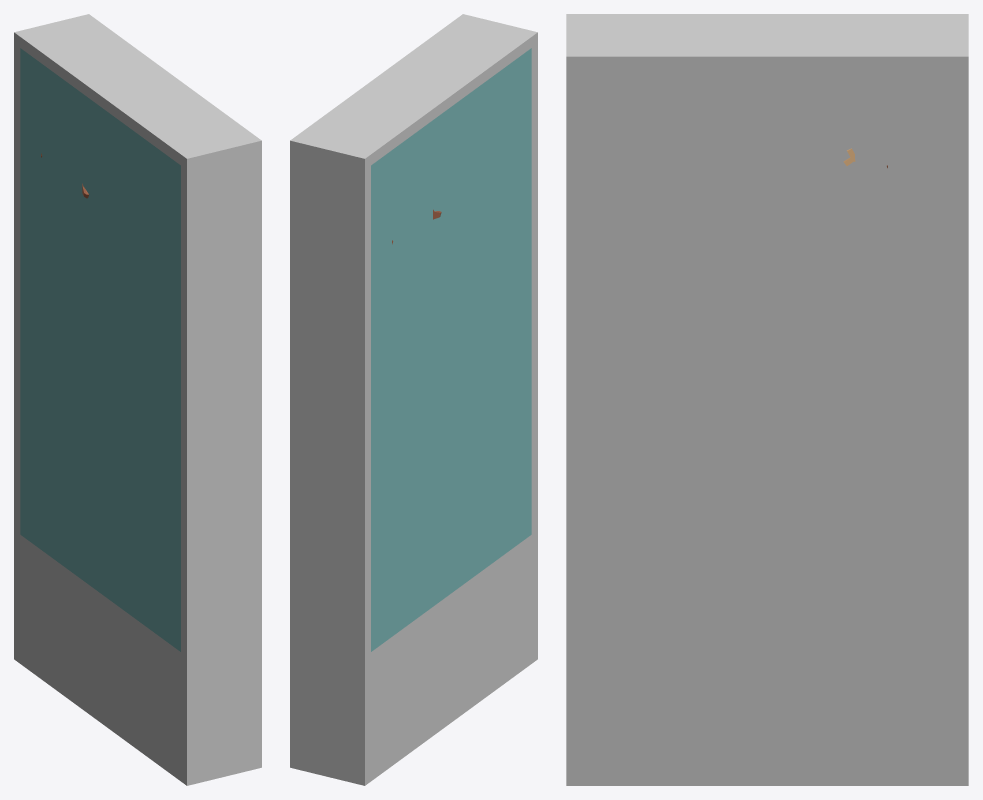
Rendered from Shelf_Kühlregal.fbx.
3 views of the same model, side by side, from view 1: azimuth 30°, elevation 25°; view 2: azimuth 150°, elevation 25°; view 3: azimuth 270°, elevation 25° (orthographic). The views are drawn at different scales.
Parts seen in each view (by area): view 1: Box003, Line001; view 2: Box003, Line001; view 3: Box003.
Boxes of the visible parts, bbox=[...] form: Box003: bbox=[14, 14, 261, 785]; Line001: bbox=[20, 48, 180, 651]; Box003: bbox=[290, 14, 537, 785]; Line001: bbox=[371, 48, 531, 651]; Box003: bbox=[566, 14, 968, 785].
Bounding box in the file's own units: 2.66 × 20 × 10.
